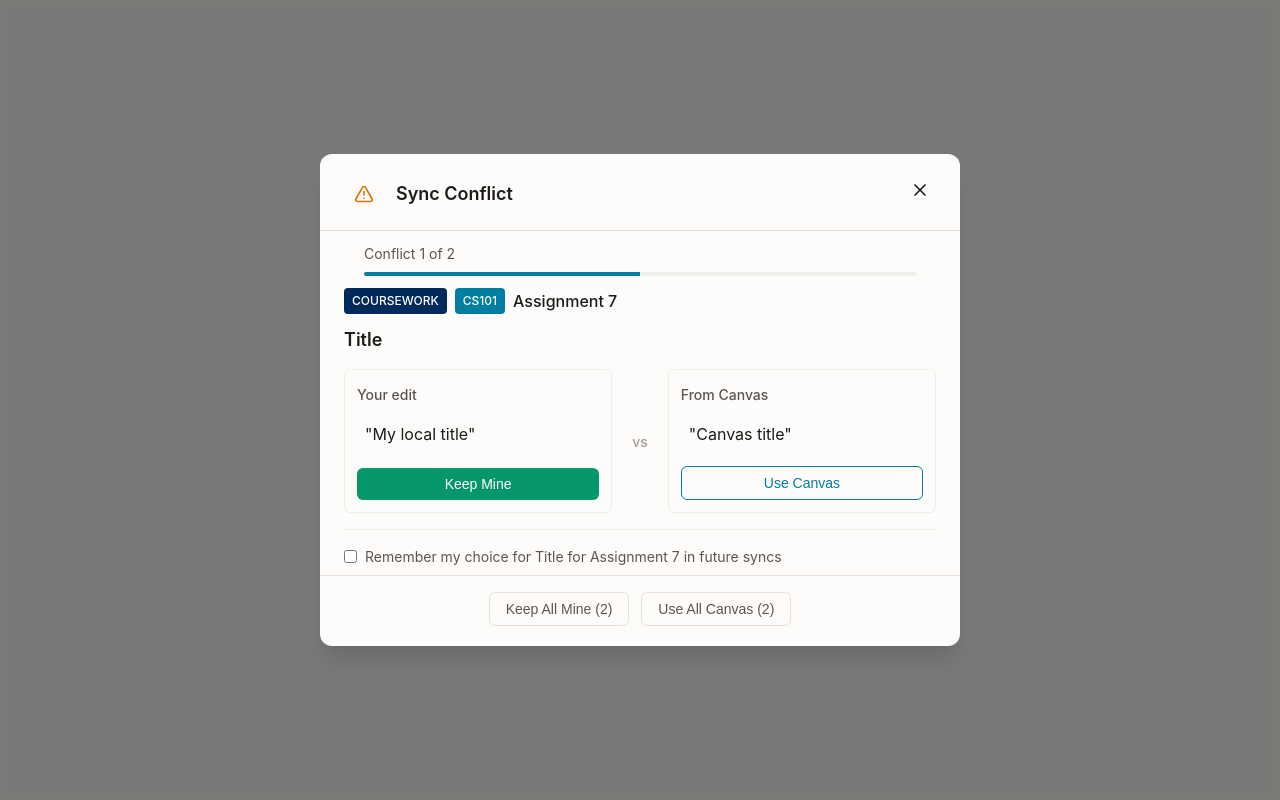
SyncConflictModal — pagination › resolving a non-last conflict advances the cursor without closing
The width and height of the screenshot is (1280, 800).
Expected: the text "Conflict 1 of 2" is shown, [364,245,455,262]
What coordinates should you click on to do the following:
click the button "Keep Mine"
I would click on:
 (478, 484)
Its box is [357,468,599,500].
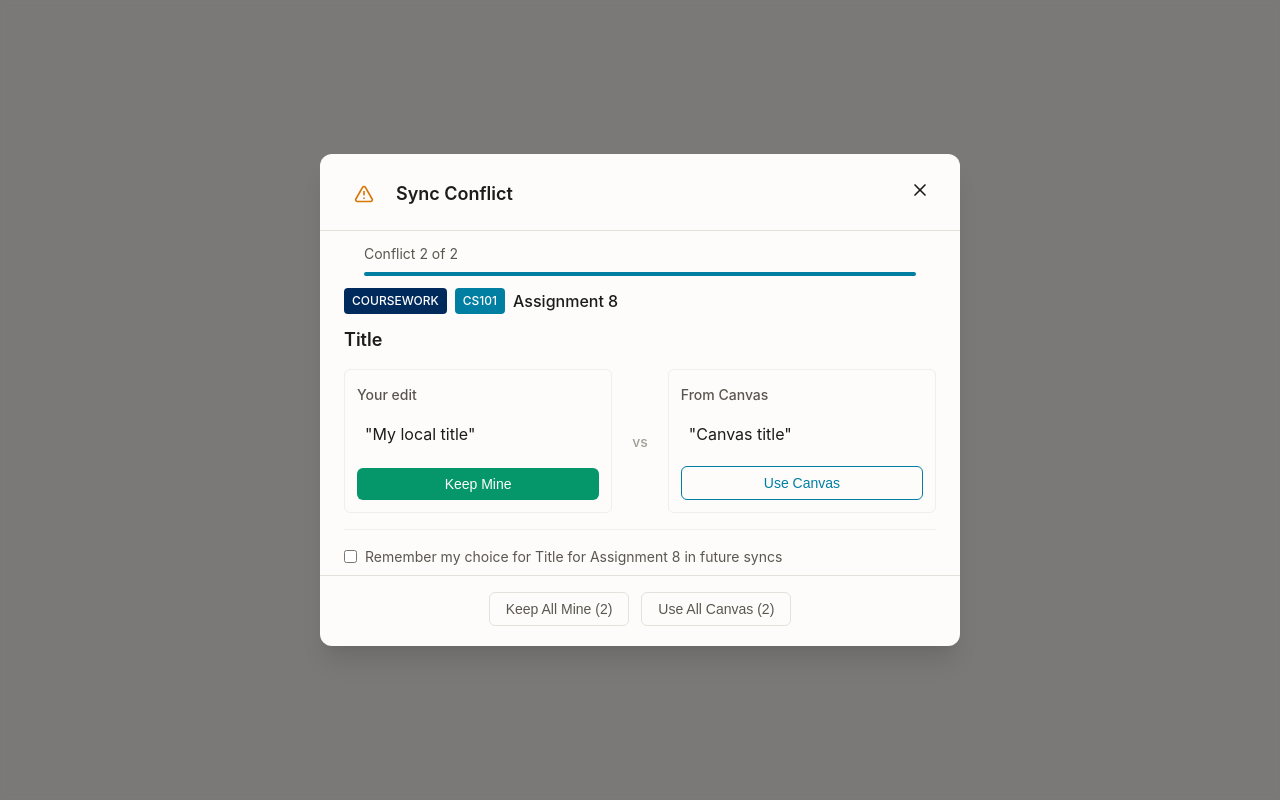
Now the text "Conflict 2 of 2" is shown, box [364,245,458,262]
